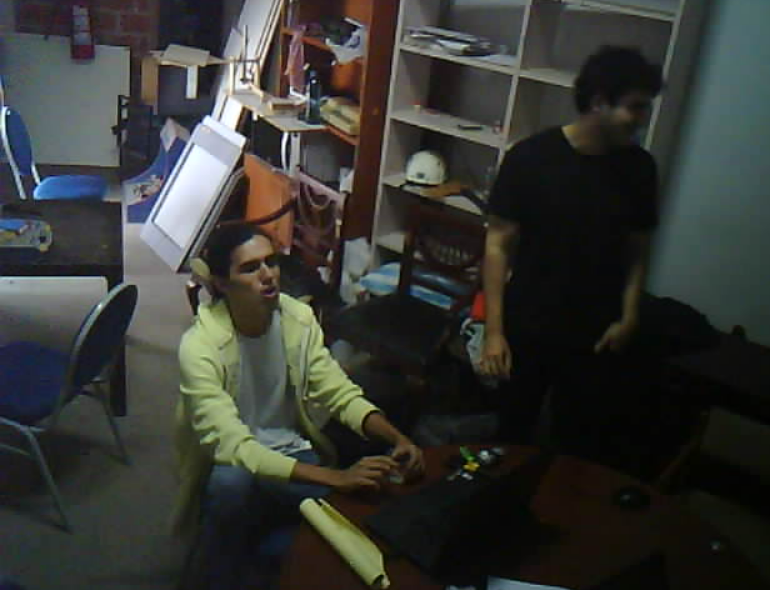person: (144, 193, 435, 590), (471, 45, 671, 463)
